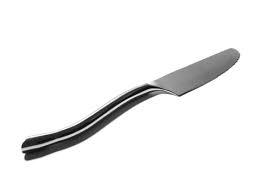Knife: (20, 46, 240, 160)
